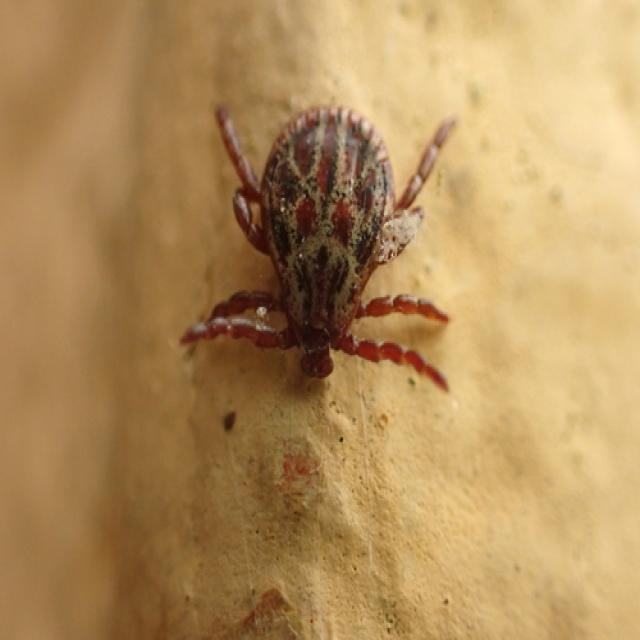Dermacentor Reticulatus-M: (179, 104, 458, 391)
